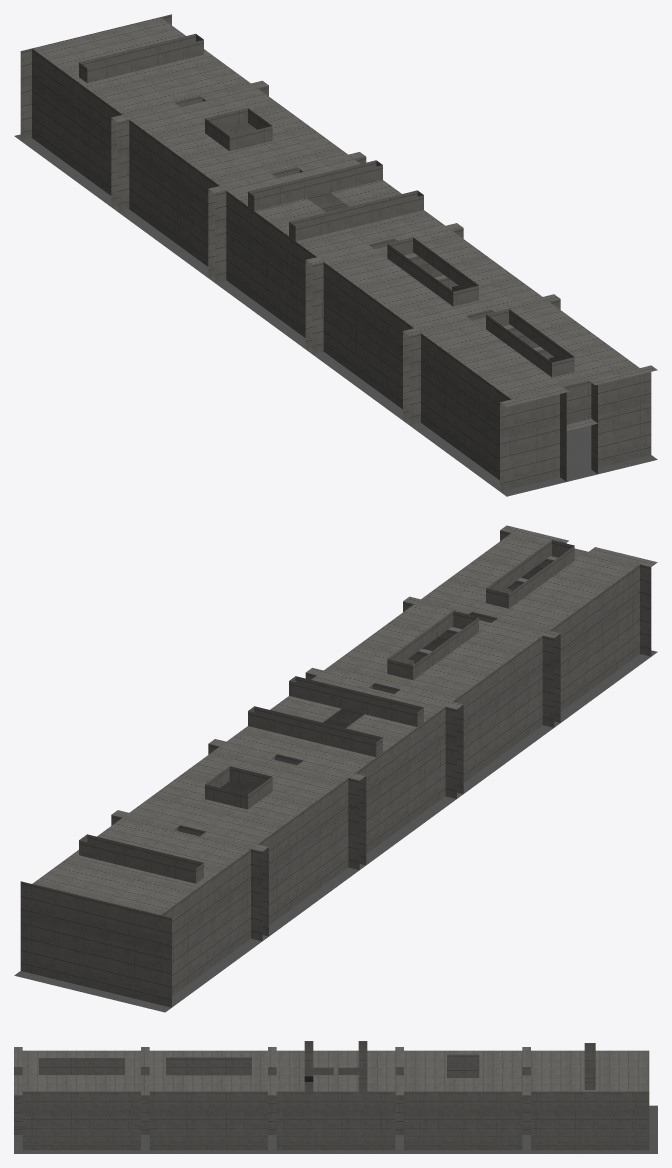
The model's file is expo.glb.
The picture shows the model from 3 angles, top to bottom: view 1: azimuth 30°, elevation 25°; view 2: azimuth 150°, elevation 25°; view 3: azimuth 270°, elevation 25°; orthographic projection. The views are drawn at different scales.
Parts seen in each view (by area): view 1: BETON; view 2: BETON; view 3: BETON.
Boxes of the visible parts, x1=… form: BETON: x1=14, y1=14, x2=657, y2=496; BETON: x1=14, y1=525, x2=657, y2=1012; BETON: x1=14, y1=1041, x2=657, y2=1153.
Bounding box in the file's own units: 10.6 × 7 × 59.8.
Materials: 3 (2 with a texture image).
